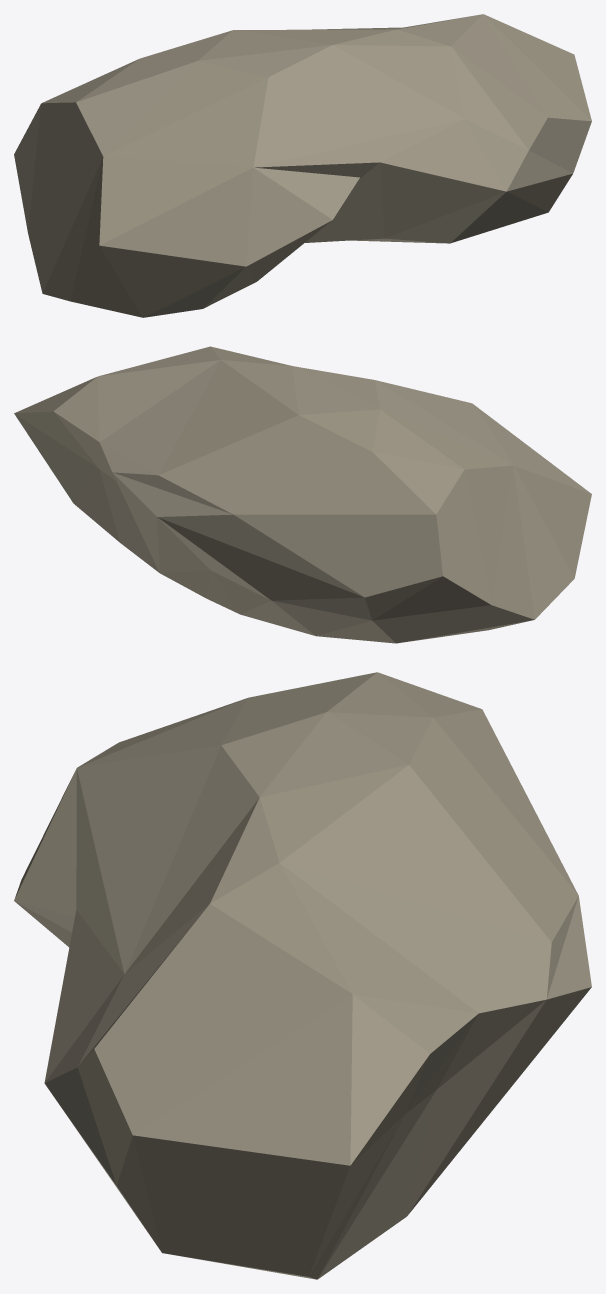
File: SM_rock_08.fbx
The picture shows the model from 3 angles, top to bottom: view 1: azimuth 30°, elevation 25°; view 2: azimuth 150°, elevation 25°; view 3: azimuth 270°, elevation 25°; orthographic projection. The views are drawn at different scales.
Parts seen in each view (by area): view 1: rock_08; view 2: rock_08; view 3: rock_08.
Part boxes in pixels (x1,y1,x2,y2): rock_08: [14, 14, 591, 317]; rock_08: [14, 346, 591, 643]; rock_08: [14, 672, 591, 1279].
Size of the model in its own units: 151 by 60.09 by 84.78.
